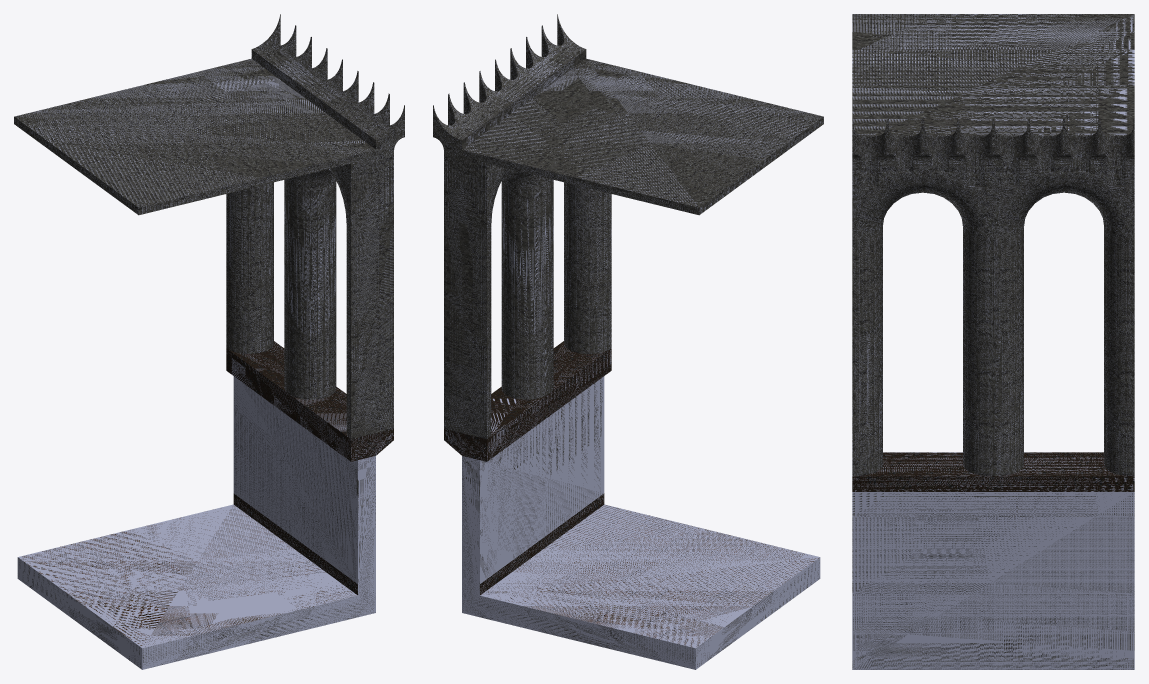
The model's file is IS_50_PLAT_002.fbx.
The picture shows the model from 3 angles, left to right: view 1: azimuth 30°, elevation 25°; view 2: azimuth 150°, elevation 25°; view 3: azimuth 270°, elevation 25°; orthographic projection. The views are drawn at different scales.
Parts seen in each view (by area): view 1: Group3, Group2, Group4; view 2: Group3, Group2, Group4; view 3: Group3, Group2, Group4.
Part boxes in pixels (bbox=[...]): Group3: bbox=[14, 42, 404, 439]; Group2: bbox=[17, 341, 393, 669]; Group4: bbox=[252, 14, 404, 140]; Group3: bbox=[433, 42, 823, 439]; Group2: bbox=[444, 341, 820, 669]; Group4: bbox=[433, 14, 585, 140]; Group3: bbox=[852, 14, 1134, 476]; Group2: bbox=[852, 452, 1134, 669]; Group4: bbox=[852, 118, 1134, 150].
Bounding box in the file's own units: 74 × 133 × 60.
